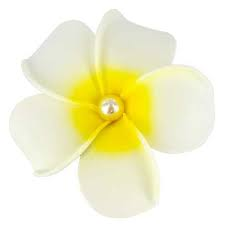frangipani: (11, 8, 216, 217)
